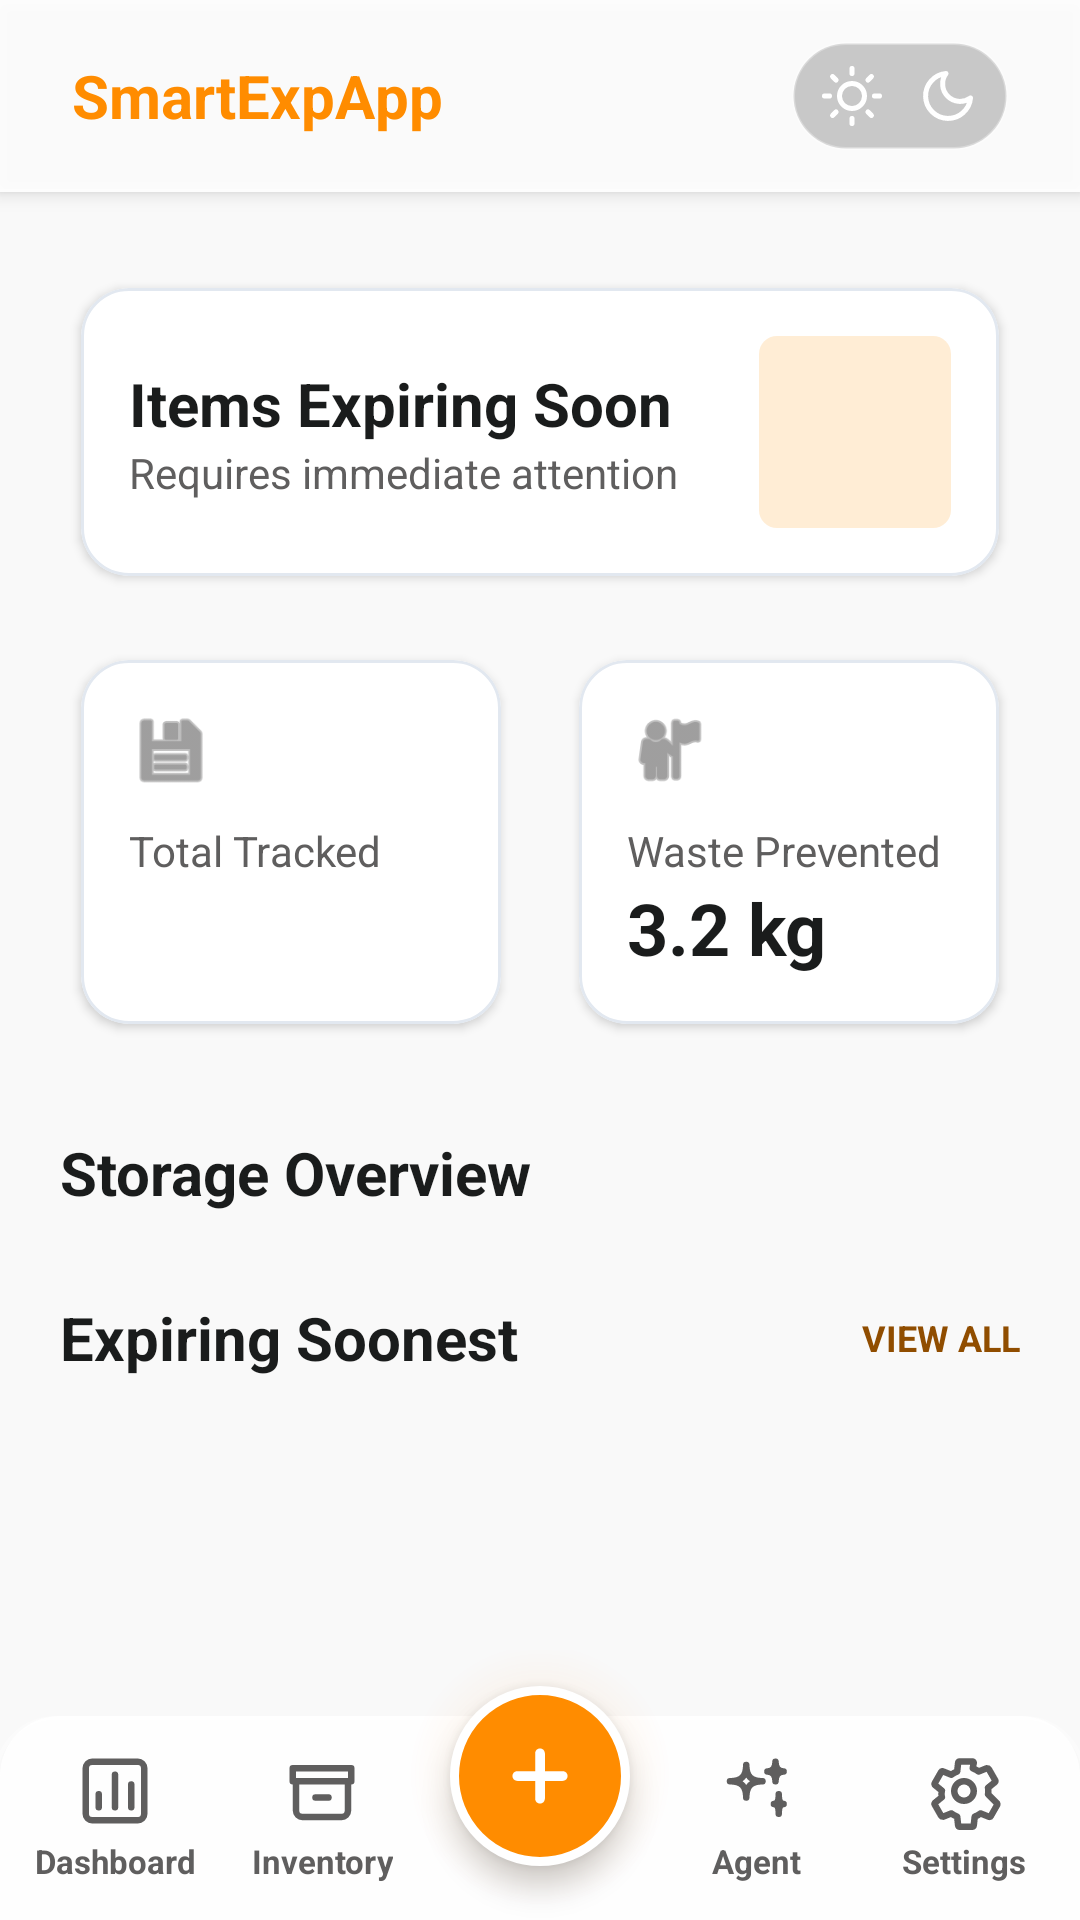

Where icons sit on this 1080px x 1920px app screen, as box=[x1, y1, x2, y2]:
Add Product: box=[512, 1748, 568, 1804]
myplaces: box=[638, 719, 701, 781]
save: box=[139, 718, 203, 782]
theme moon: box=[923, 71, 973, 121]
theme sun: box=[822, 66, 882, 126]
